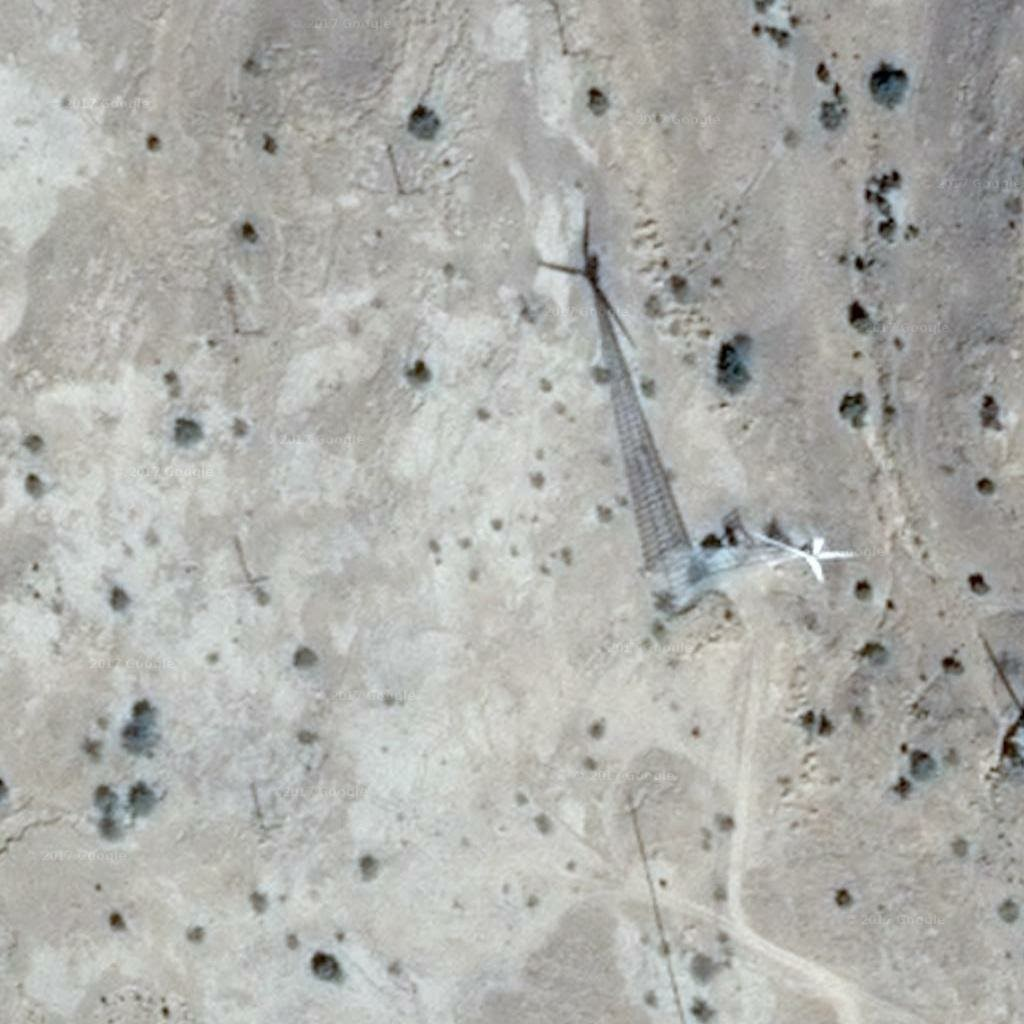Windmill: (537, 211, 712, 580)
